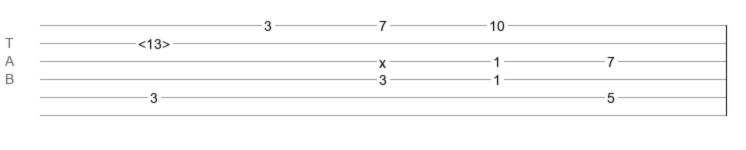1: (493, 72, 501, 82), (493, 54, 501, 64)
10: (489, 18, 505, 28)
3: (150, 90, 158, 100), (264, 18, 272, 28), (379, 72, 387, 82)
5: (607, 90, 615, 100)
7: (379, 18, 387, 28), (607, 54, 615, 64)
harmonic: (138, 36, 170, 46)
x: (379, 55, 386, 63)
